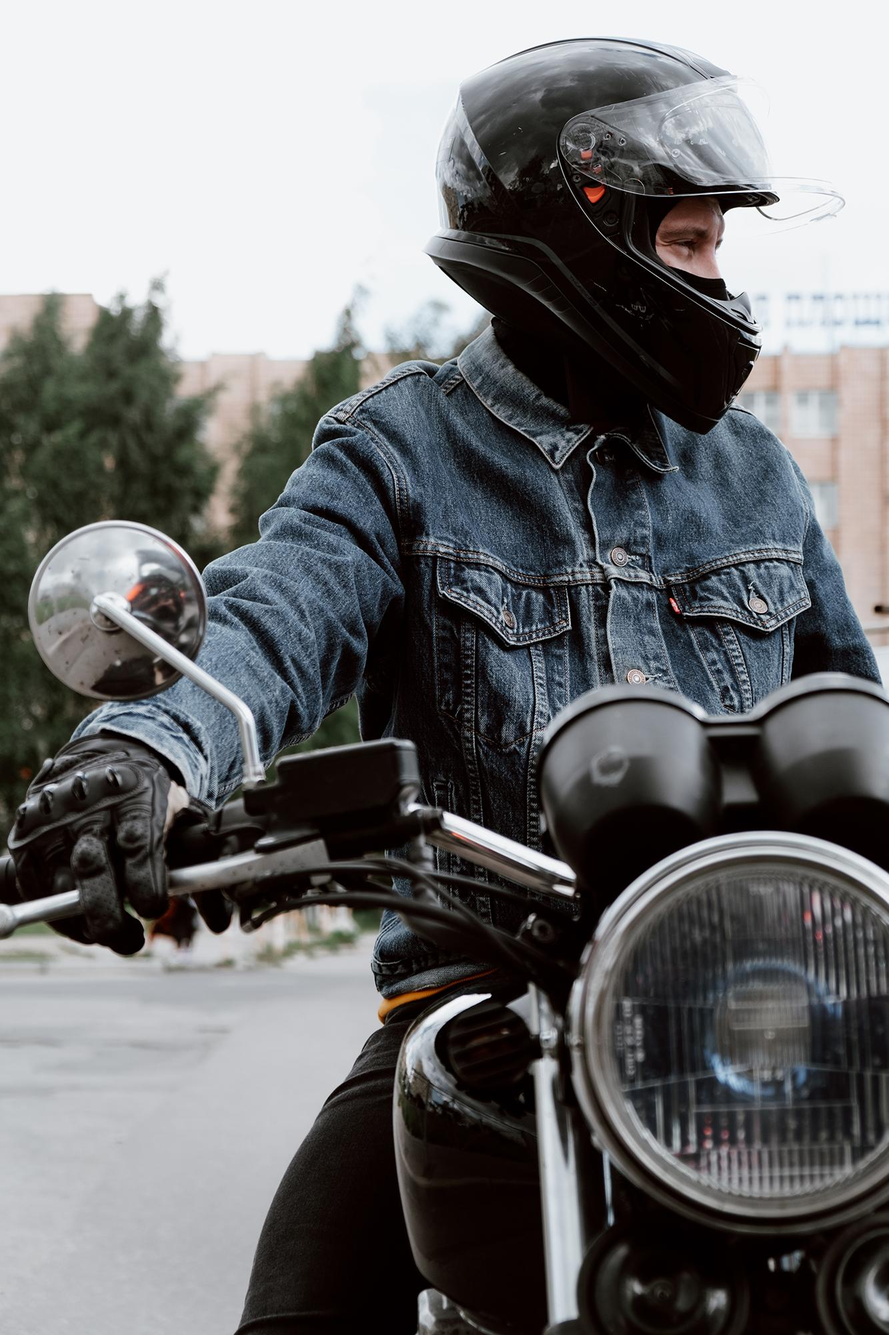helmet: (421, 33, 855, 437)
